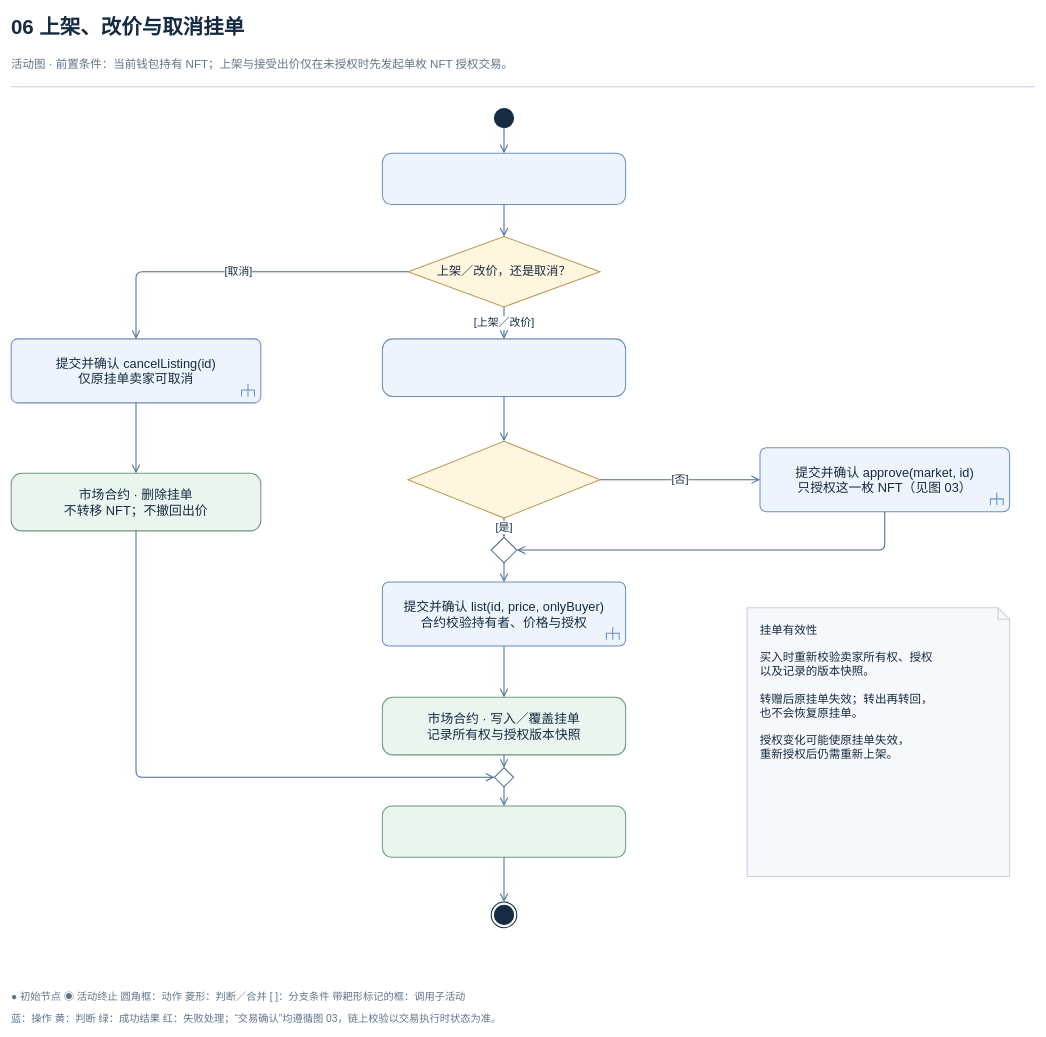
The diagram is 1046 pixels wide and 1037 high, and some of its shapes have lost their labels. The shapes that lost their labels are listed below. From the top down, each one's centre as x and y in pixels, then its label:
At point (504, 178): "用户 · 在 NFT 详情选择操作".
At point (504, 367): "用户 · 填写正数售价 可选指定买家地址（不得为本人）".
At point (503, 479): "市场已有 NFT 转移授权？".
At point (504, 831): "前端 · 刷新挂单与 NFT 详情".
